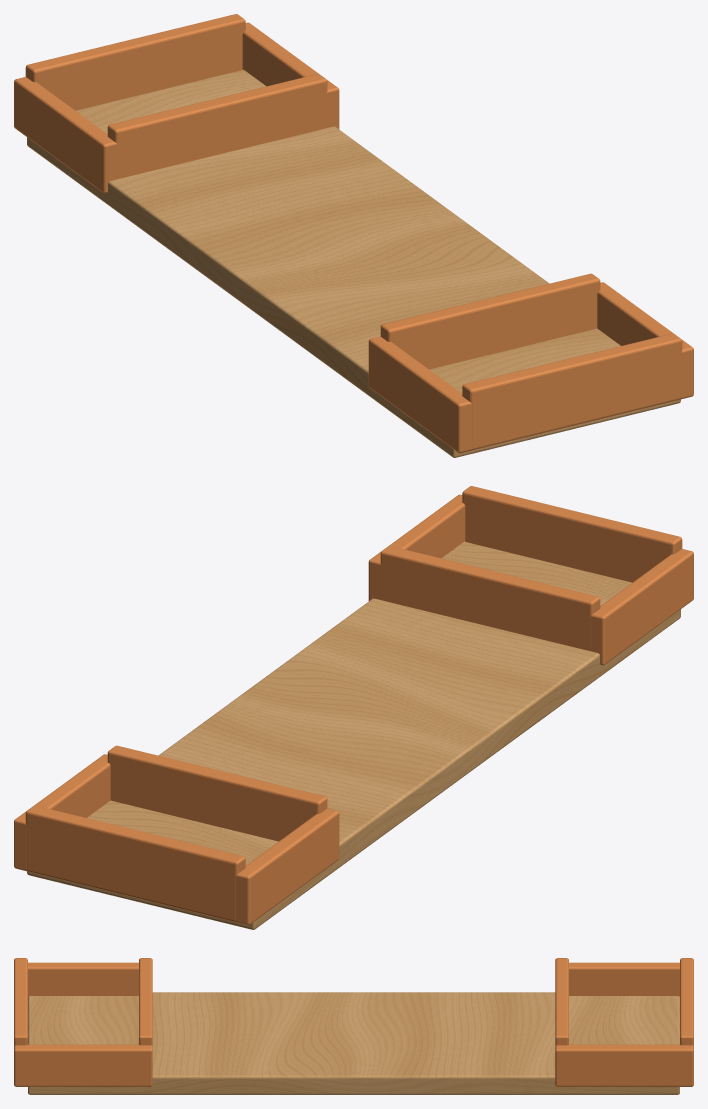
The model's file is lever.glb.
3 renders of one model, top to bottom at view 1: azimuth 30°, elevation 25°; view 2: azimuth 150°, elevation 25°; view 3: azimuth 270°, elevation 25°, orthographic. The views are drawn at different scales.
Parts seen in each view (by area): view 1: lever; view 2: lever; view 3: lever.
Part boxes in pixels (<box>): lever: <box>14,14,693,457</box>; lever: <box>14,486,693,929</box>; lever: <box>14,958,693,1094</box>.
Size of the model in its own units: 0.03 by 0.0089 by 0.098.
Materials: 2 (1 with a texture image).
